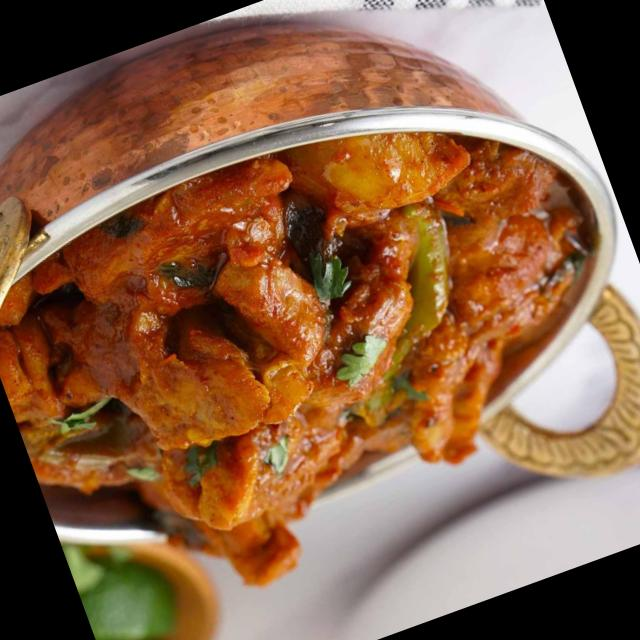chicken: (0, 56, 621, 590)
